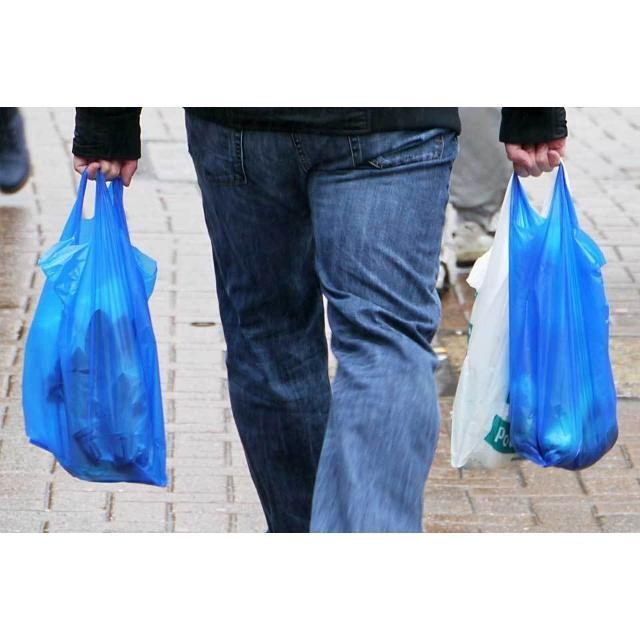plastic: (451, 161, 616, 470), (22, 171, 167, 486)
